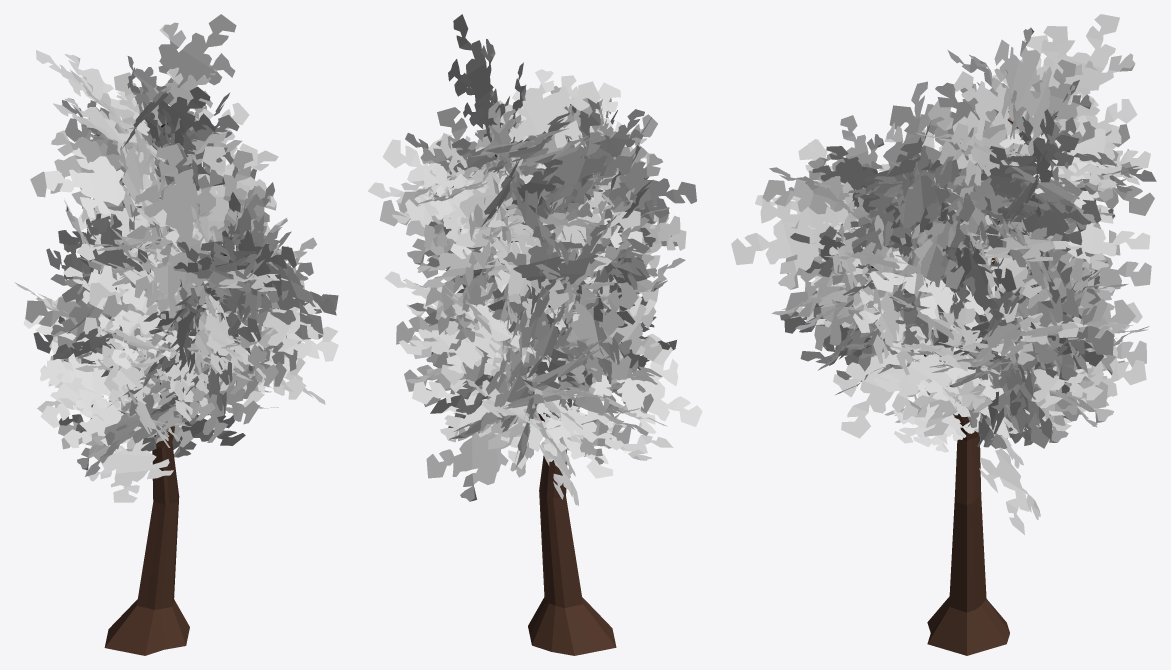
Rendered from Tree 2.fbx.
3 renders of one model, left to right at view 1: azimuth 30°, elevation 25°; view 2: azimuth 150°, elevation 25°; view 3: azimuth 270°, elevation 25°, orthographic. The views are drawn at different scales.
Parts seen in each view (by area): view 1: Cube.001, Cube.001|Tree Branch|Dupli|300, Cube.001|Tree Branch|Dupli|305, Cube.001|Tree Branch|Dupli|57, Cube.001|Tree Branch|Dupli|82, Cube.001|Tree Branch|Dupli|311, Cube.001|Tree Branch|Dupli|61, Cube.001|Tree Branch|Dupli|342, Cube.001|Tree Branch|Dupli|64, Cube.001|Tree Branch|Dupli|304, Cube.001|Tree Branch|Dupli|5, Cube.001|Tree Branch|Dupli|318 (+62 smaller); view 2: Cube.001, Cube.001|Tree Branch|Dupli|303, Cube.001|Tree Branch|Dupli|379, Cube.001|Tree Branch|Dupli|344, Cube.001|Tree Branch|Dupli|347, Cube.001|Tree Branch|Dupli|314, Cube.001|Tree Branch|Dupli|305, Cube.001|Tree Branch|Dupli|61, Cube.001|Tree Branch|Dupli|323, Cube.001|Tree Branch|Dupli|372, Cube.001|Tree Branch|Dupli|302, Cube.001|Tree Branch|Dupli|134 (+66 smaller); view 3: Cube.001, Cube.001|Tree Branch|Dupli|64, Cube.001|Tree Branch|Dupli|141, Cube.001|Tree Branch|Dupli|305, Cube.001|Tree Branch|Dupli|304, Cube.001|Tree Branch|Dupli|123, Cube.001|Tree Branch|Dupli|285, Cube.001|Tree Branch|Dupli|144, Cube.001|Tree Branch|Dupli|318, Cube.001|Tree Branch|Dupli|308, Cube.001|Tree Branch|Dupli|294, Cube.001|Tree Branch|Dupli|229 (+63 smaller).
Boxes of the visible parts, x1=… form: Cube.001: x1=80, y1=123, x2=226, y2=655; Cube.001|Tree Branch|Dupli|300: x1=135, y1=144, x2=227, y2=268; Cube.001|Tree Branch|Dupli|305: x1=134, y1=14, x2=236, y2=112; Cube.001|Tree Branch|Dupli|57: x1=44, y1=147, x2=150, y2=218; Cube.001|Tree Branch|Dupli|82: x1=85, y1=425, x2=181, y2=502; Cube.001|Tree Branch|Dupli|311: x1=30, y1=123, x2=155, y2=207; Cube.001|Tree Branch|Dupli|61: x1=134, y1=243, x2=214, y2=319; Cube.001|Tree Branch|Dupli|342: x1=47, y1=337, x2=160, y2=412; Cube.001|Tree Branch|Dupli|64: x1=222, y1=236, x2=336, y2=323; Cube.001|Tree Branch|Dupli|304: x1=36, y1=50, x2=149, y2=135; Cube.001|Tree Branch|Dupli|5: x1=98, y1=265, x2=195, y2=349; Cube.001|Tree Branch|Dupli|318: x1=141, y1=85, x2=215, y2=144; Cube.001: x1=495, y1=154, x2=616, y2=655; Cube.001|Tree Branch|Dupli|303: x1=498, y1=69, x2=600, y2=175; Cube.001|Tree Branch|Dupli|379: x1=426, y1=425, x2=533, y2=501; Cube.001|Tree Branch|Dupli|344: x1=593, y1=359, x2=702, y2=433; Cube.001|Tree Branch|Dupli|347: x1=555, y1=282, x2=638, y2=383; Cube.001|Tree Branch|Dupli|314: x1=512, y1=132, x2=633, y2=200; Cube.001|Tree Branch|Dupli|305: x1=448, y1=14, x2=505, y2=149; Cube.001|Tree Branch|Dupli|61: x1=596, y1=153, x2=696, y2=223; Cube.001|Tree Branch|Dupli|323: x1=405, y1=163, x2=485, y2=241; Cube.001|Tree Branch|Dupli|372: x1=399, y1=329, x2=506, y2=373; Cube.001|Tree Branch|Dupli|302: x1=449, y1=157, x2=523, y2=248; Cube.001|Tree Branch|Dupli|134: x1=502, y1=224, x2=583, y2=304; Cube.001: x1=858, y1=116, x2=1057, y2=655; Cube.001|Tree Branch|Dupli|64: x1=731, y1=176, x2=856, y2=289; Cube.001|Tree Branch|Dupli|141: x1=833, y1=334, x2=939, y2=438; Cube.001|Tree Branch|Dupli|305: x1=994, y1=27, x2=1051, y2=155; Cube.001|Tree Branch|Dupli|304: x1=1022, y1=14, x2=1135, y2=125; Cube.001|Tree Branch|Dupli|123: x1=1003, y1=287, x2=1113, y2=380; Cube.001|Tree Branch|Dupli|285: x1=882, y1=146, x2=952, y2=246; Cube.001|Tree Branch|Dupli|144: x1=785, y1=262, x2=877, y2=350; Cube.001|Tree Branch|Dupli|318: x1=953, y1=68, x2=1033, y2=165; Cube.001|Tree Branch|Dupli|308: x1=889, y1=82, x2=1024, y2=170; Cube.001|Tree Branch|Dupli|294: x1=762, y1=157, x2=870, y2=232; Cube.001|Tree Branch|Dupli|229: x1=869, y1=251, x2=987, y2=319.
Bounding box in the file's own units: 1463 × 3241 × 1948.
